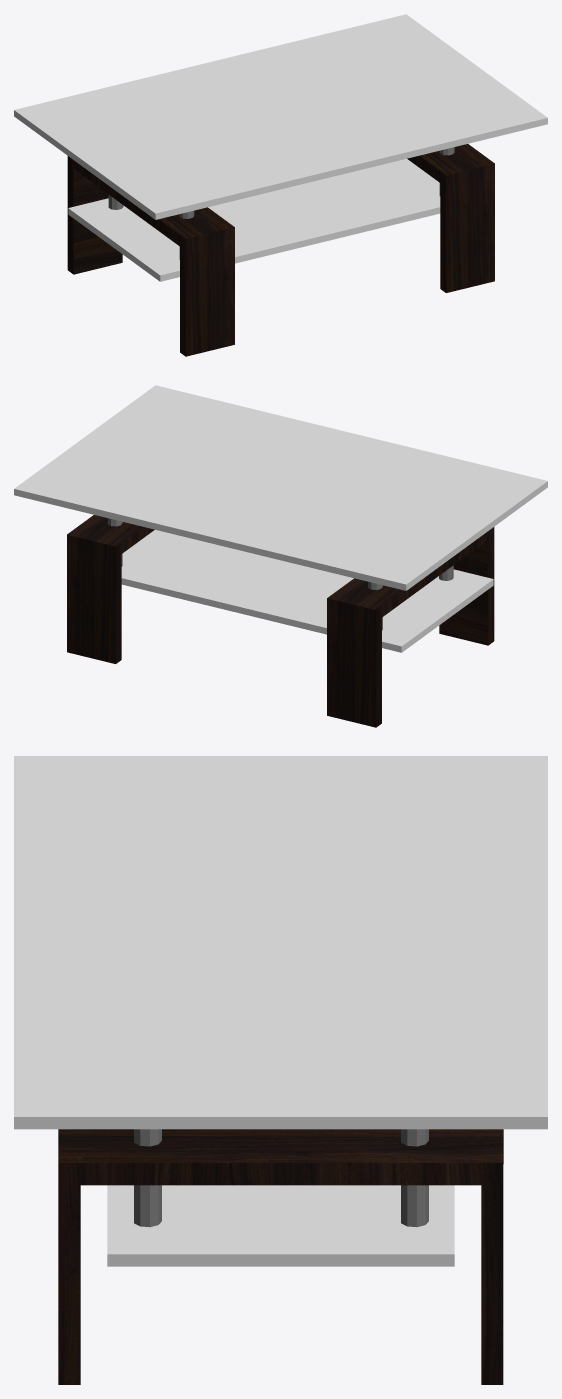
The model's file is Table.fbx.
3 renders of one model, top to bottom at view 1: azimuth 30°, elevation 25°; view 2: azimuth 150°, elevation 25°; view 3: azimuth 270°, elevation 25°, orthographic. The views are drawn at different scales.
Parts seen in each view (by area): view 1: Glass Top, Wooden Supports, Glass Bottom; view 2: Glass Top, Wooden Supports, Glass Bottom; view 3: Glass Top, Wooden Supports, Glass Bottom, Metal Pipes.
Part boxes in pixels (x1,y1,x2,y2): Glass Top: (14, 14, 547, 219); Wooden Supports: (67, 144, 494, 356); Glass Bottom: (68, 158, 440, 281); Glass Top: (14, 385, 547, 590); Wooden Supports: (67, 515, 494, 727); Glass Bottom: (121, 529, 493, 652); Glass Top: (14, 756, 547, 1129); Wooden Supports: (58, 1129, 503, 1384); Glass Bottom: (107, 1185, 454, 1266); Metal Pipes: (134, 1129, 428, 1227).
Size of the model in its own units: 960 by 379 by 600.
4 materials, 1 textured.
